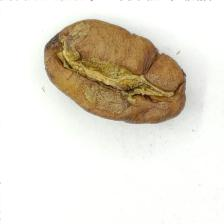NG: (45, 22, 171, 114)
